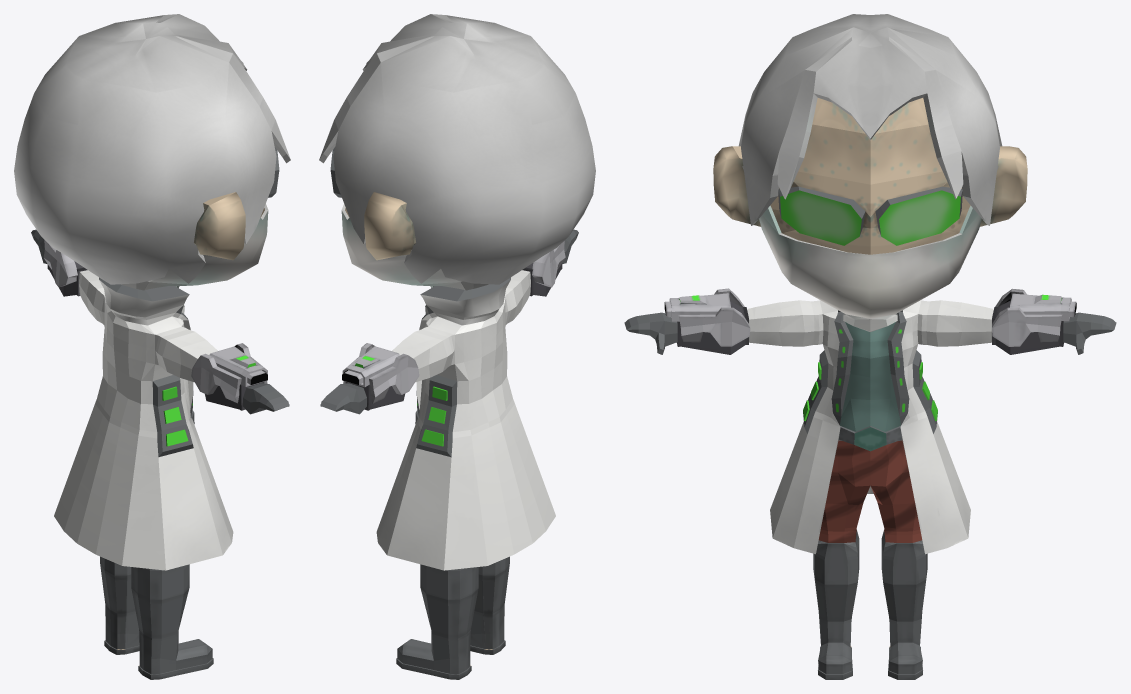
Rendered from Boss1.3.fbx.
The picture shows the model from 3 angles, left to right: view 1: azimuth 30°, elevation 25°; view 2: azimuth 150°, elevation 25°; view 3: azimuth 270°, elevation 25°; orthographic projection.
Parts seen in each view (by area): view 1: HairProf, BodyProf.003, R_handWeapon, L_HandWeapon; view 2: HairProf, BodyProf.003, L_HandWeapon, R_handWeapon; view 3: BodyProf.003, HairProf, L_HandWeapon, R_handWeapon.
Boxes of the visible parts, x1,y1,x2,y2 form: HairProf: [14, 14, 290, 284]; BodyProf.003: [31, 147, 289, 679]; R_handWeapon: [191, 343, 267, 403]; L_HandWeapon: [43, 240, 77, 287]; HairProf: [319, 14, 595, 284]; BodyProf.003: [320, 147, 578, 679]; L_HandWeapon: [342, 343, 419, 403]; R_handWeapon: [532, 241, 565, 287]; BodyProf.003: [624, 98, 1116, 679]; HairProf: [738, 14, 1002, 225]; L_HandWeapon: [992, 288, 1076, 346]; R_handWeapon: [664, 288, 750, 346].
Size of the model in its own units: 66.11 by 173 by 122.
3 materials, 3 textured.
